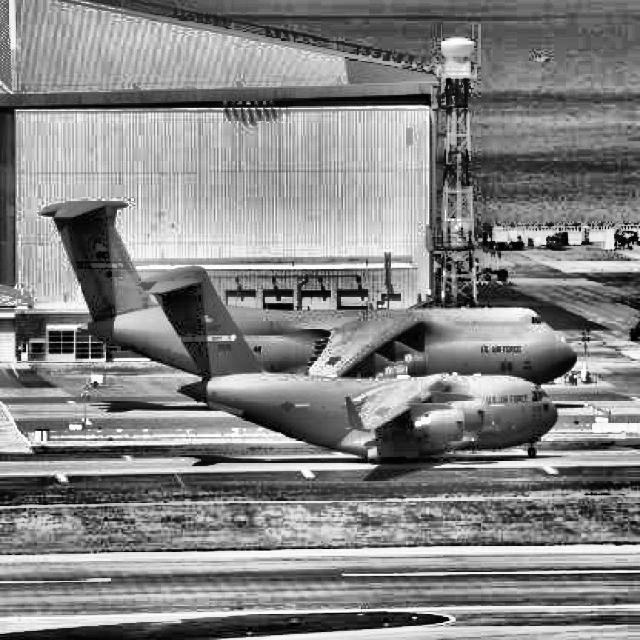C17: (134, 265, 558, 463)
C5: (38, 199, 578, 387)
